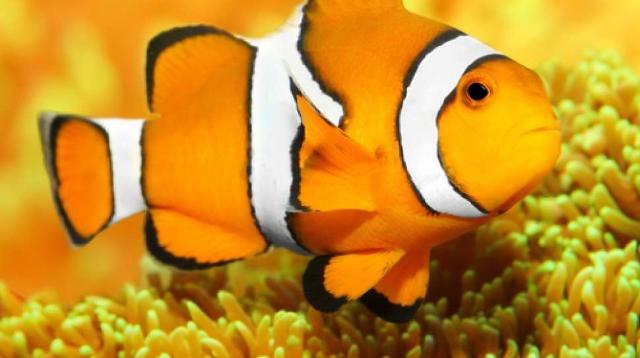Mulut: (494, 105, 600, 185)
Sirip Anal: (136, 200, 278, 287)
Sirip Dada: (266, 64, 389, 236)
Sirip Ekor: (27, 98, 125, 262)
Sirip Perut: (289, 235, 445, 340)
Sirip Punggung: (122, 10, 256, 108)
